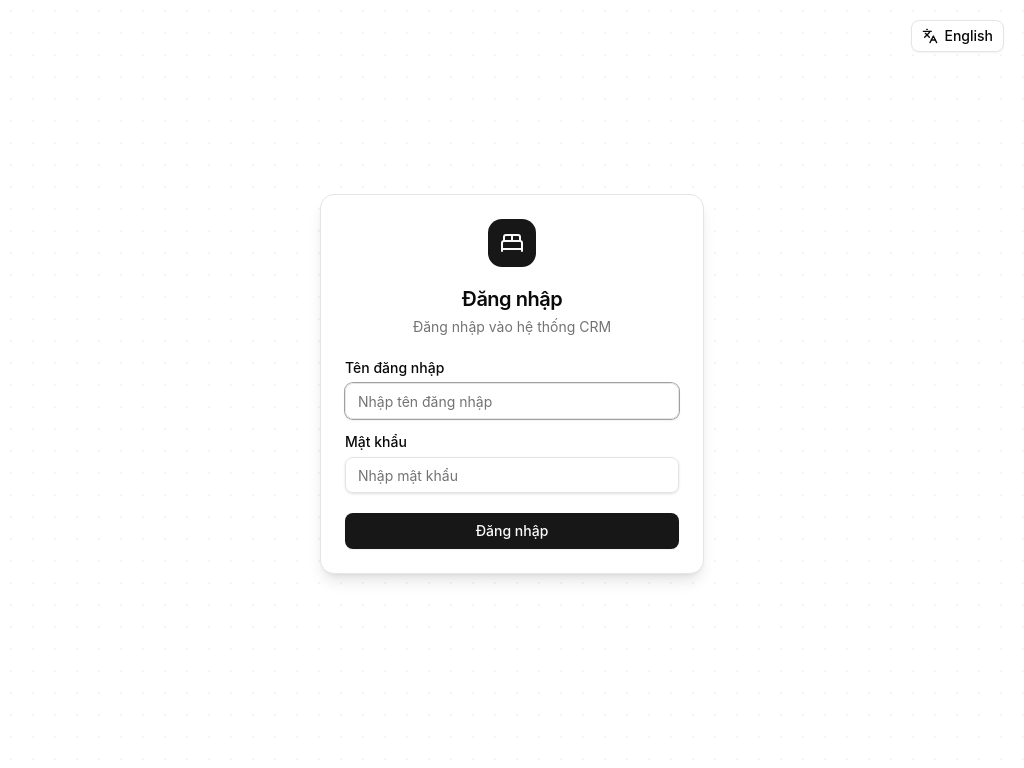
Scenario: App › navigates to the dashboard after a successful login
The image size is (1024, 768).
Expected: the text "Đăng nhập vào hệ thống CRM" is shown, [413,317,611,337]
Type "alice" into the field labelled "Tên đăng nhập" at (512, 401), box [345,383,679,419]
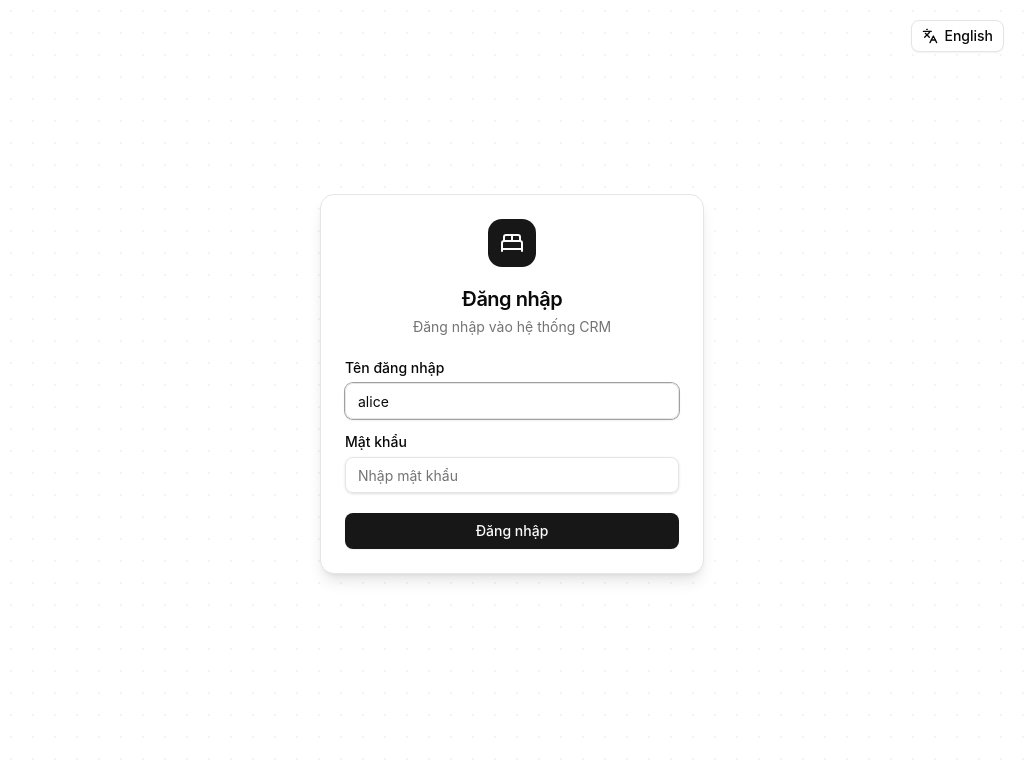
Type "secret" into the password field labelled "Mật khẩu" at (512, 475), box [345,457,679,493]
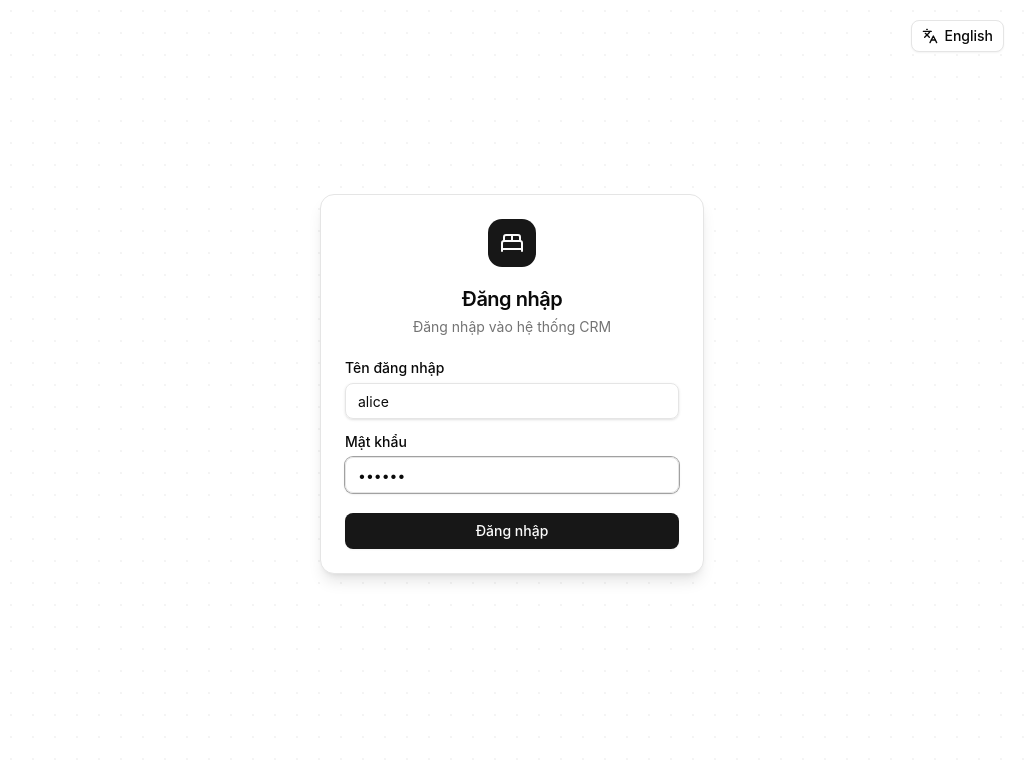
Click the button "Đăng nhập" at (512, 531), box [345,513,679,549]
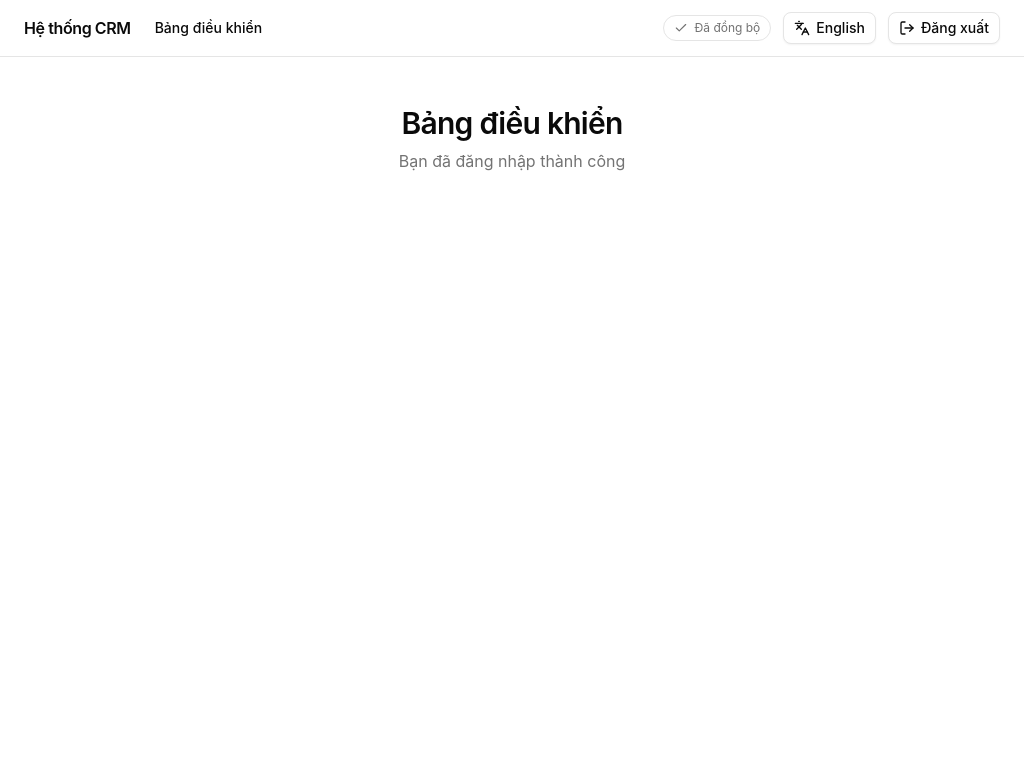
Expected: the text "Bạn đã đăng nhập thành công" is shown, [399,149,625,173]
